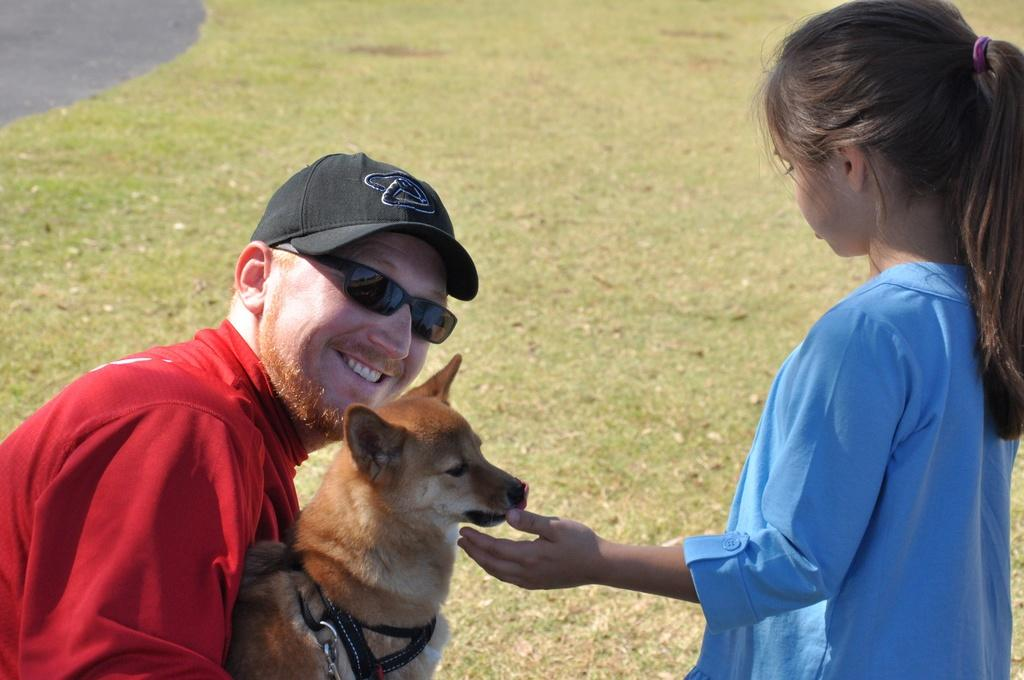Hat: (246, 150, 477, 293)
